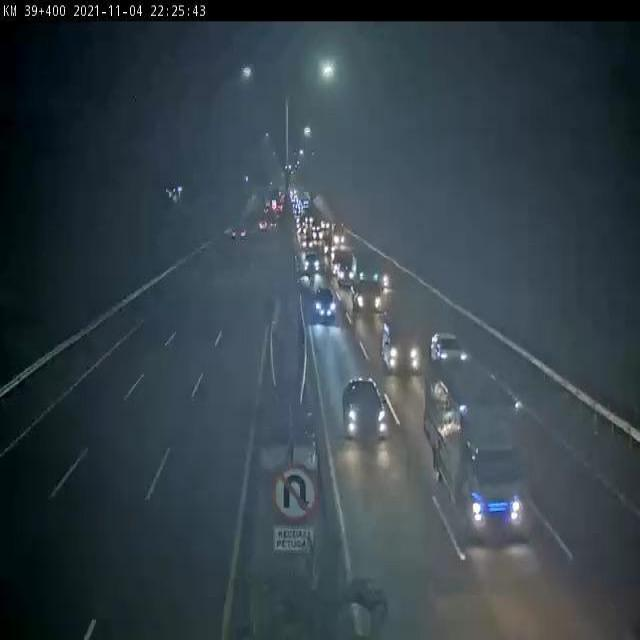car: (340, 376, 394, 445), (380, 312, 426, 375), (432, 332, 472, 375), (311, 284, 338, 329), (331, 251, 357, 281)
truck-m-: (428, 368, 531, 544), (354, 258, 382, 310)
